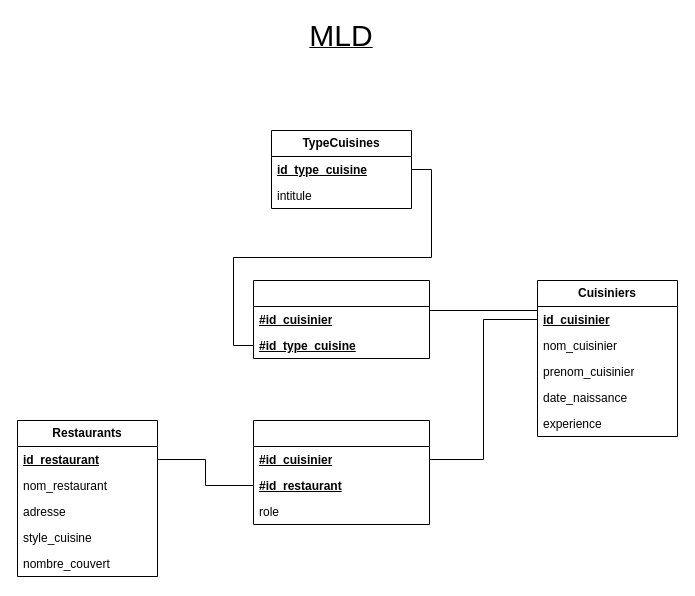
Some shapes in this 695 by 596 pixel diagram are drawn without their labels. The box of each missing label's shape, as (x1, y1, x2, y2) in pixels:
Cuisiniers_Restaurants: (252, 420, 430, 524)
Cuisiniers_TypeCuisines: (252, 280, 430, 358)
